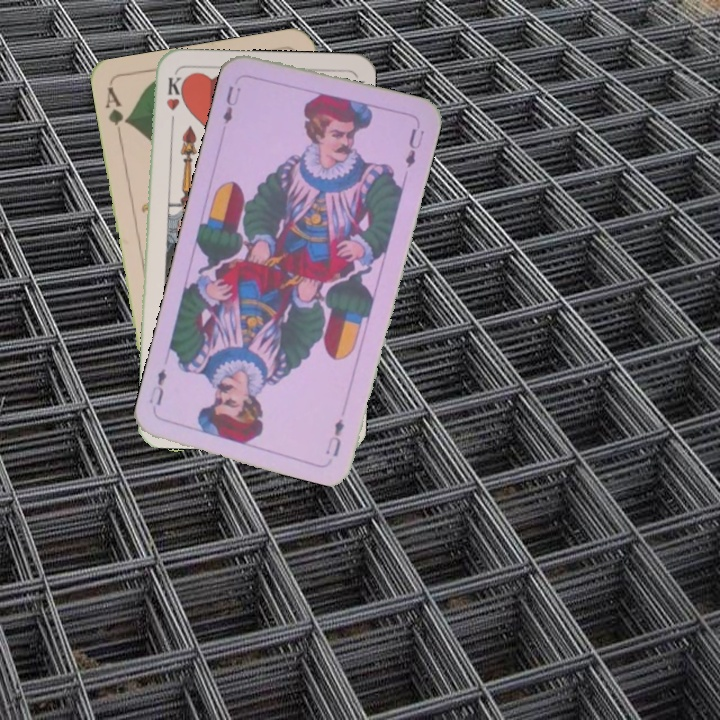EU: (218, 81, 244, 127), (322, 414, 347, 460)
GA: (101, 83, 132, 142)
HK: (163, 73, 181, 132)
